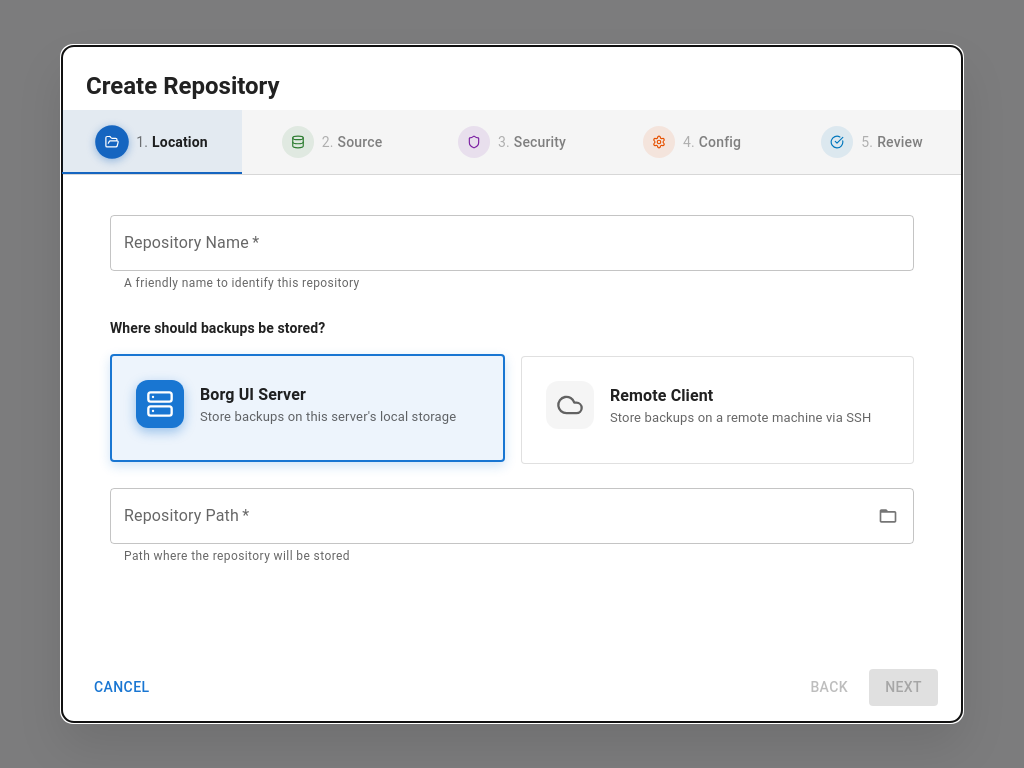
Test: RepositoryWizard › Create Mode › Step 1: Repository Location › Next button is disabled when Remote Client selected but no SSH connection chosen
Expected: the heading "Remote Client" is shown, [610,386,713,405]
Type "Test Repo" into the field labelled "Repository Name *" at (512, 243), box [110,215,914,271]
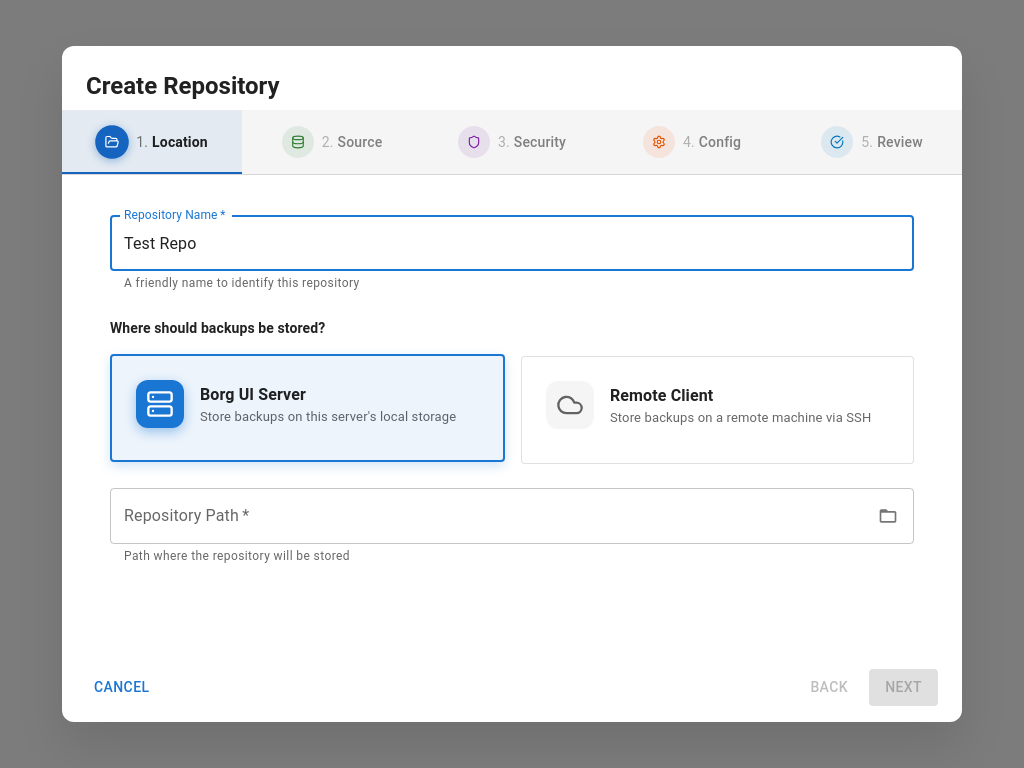
Type "/backups/test" into the field labelled "Repository Path *" at (488, 516), box [110,488,865,544]
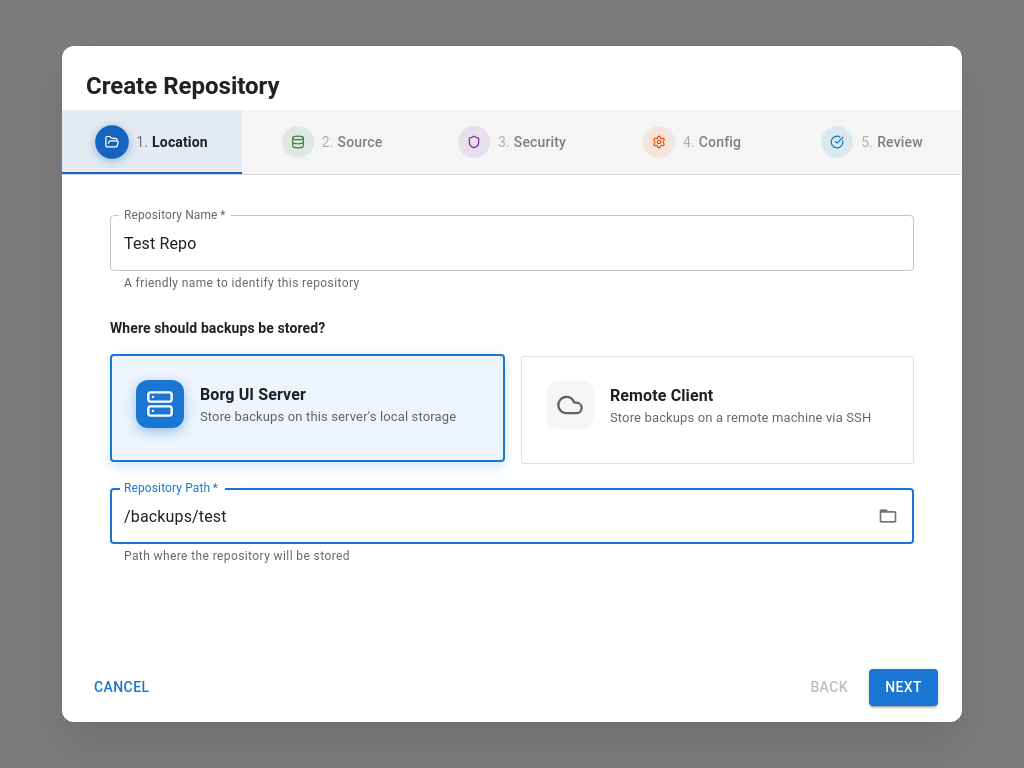
Click the button "Remote Client" at (718, 409), box [522,357,913,461]
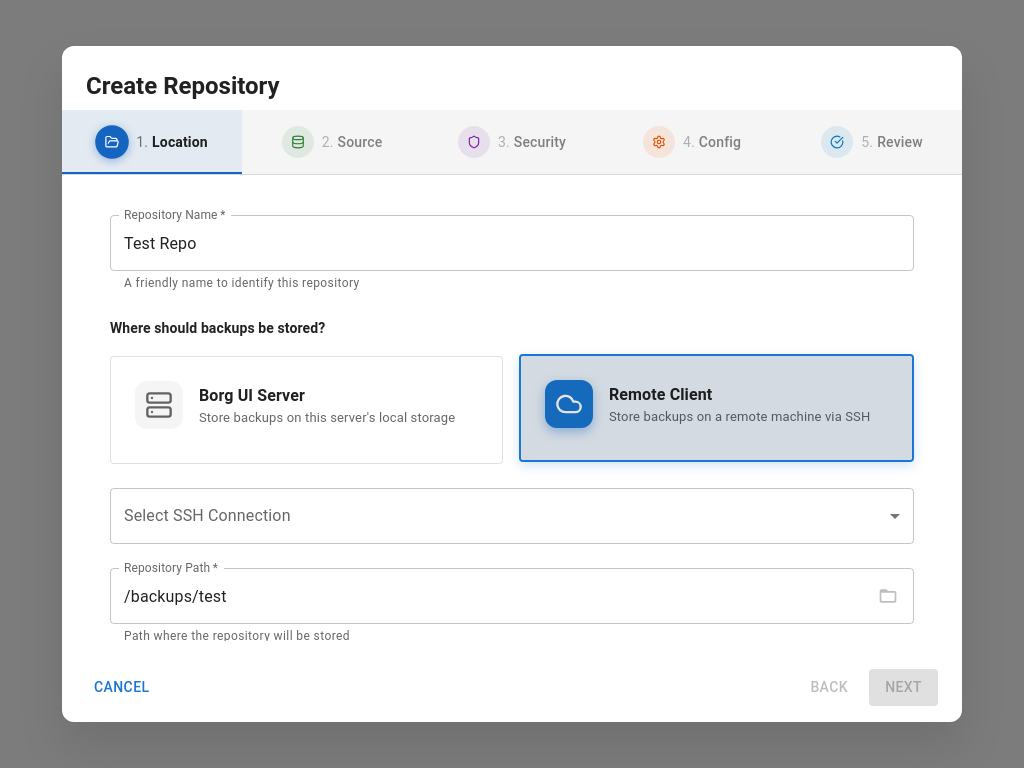
Now the button "Next" is disabled, box [869,669,938,706]
